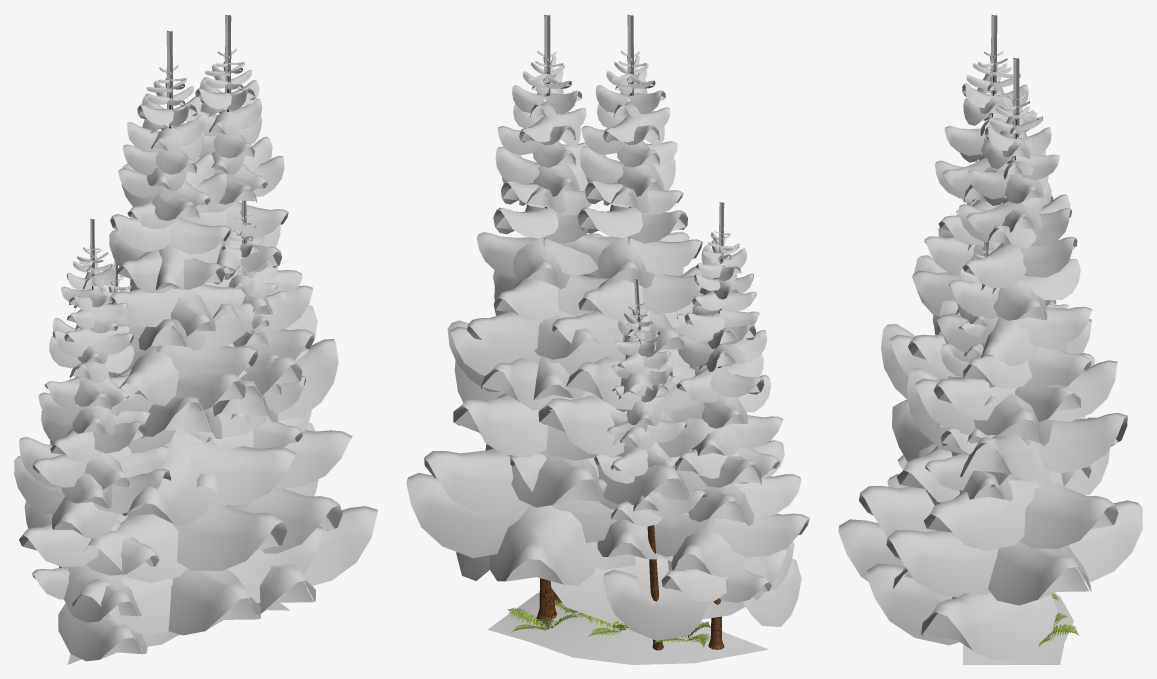
Rendered from foliageprefab_paropen001.fbx.
3 views of the same model, side by side, from view 1: azimuth 30°, elevation 25°; view 2: azimuth 150°, elevation 25°; view 3: azimuth 270°, elevation 25° (orthographic). The views are drawn at different scales.
Parts seen in each view (by area): view 1: polySurface3; view 2: polySurface3; view 3: polySurface3.
Part boxes in pixels (x1,y1,x2,y2): polySurface3: (14,14,377,664); polySurface3: (406,14,809,664); polySurface3: (838,15,1142,664).
Bounding box in the file's own units: 617 × 1018 × 469.
